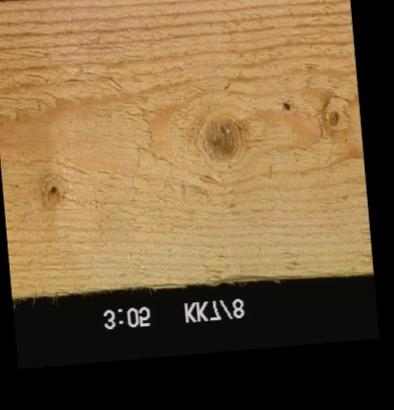small_knot: (40, 180, 64, 201), (277, 95, 294, 117)
sound_knot: (199, 116, 244, 167), (316, 91, 353, 134)
split: (145, 276, 226, 287)
